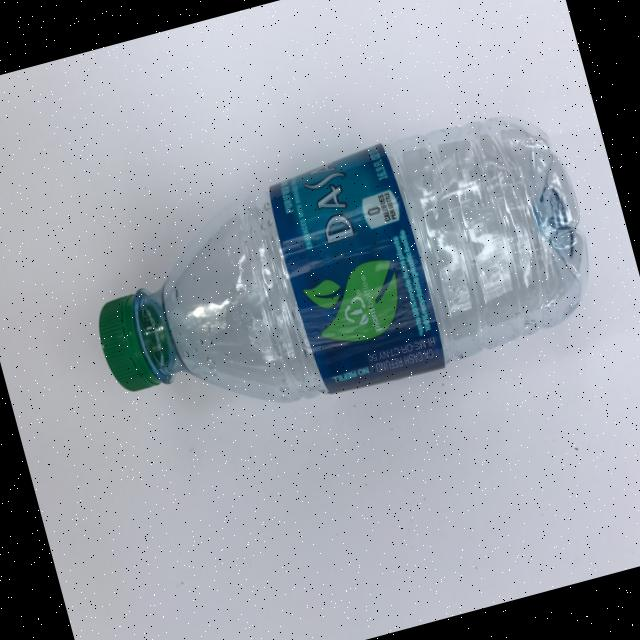plastic: (68, 96, 610, 451)
